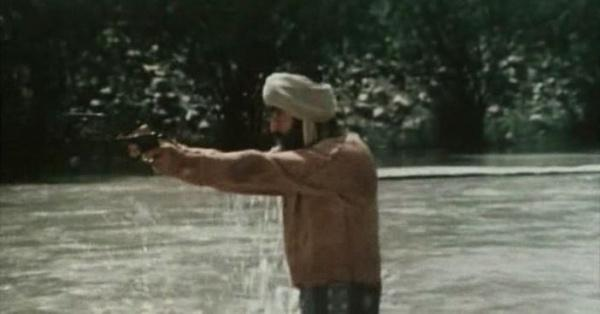Gun: (116, 130, 160, 152)
